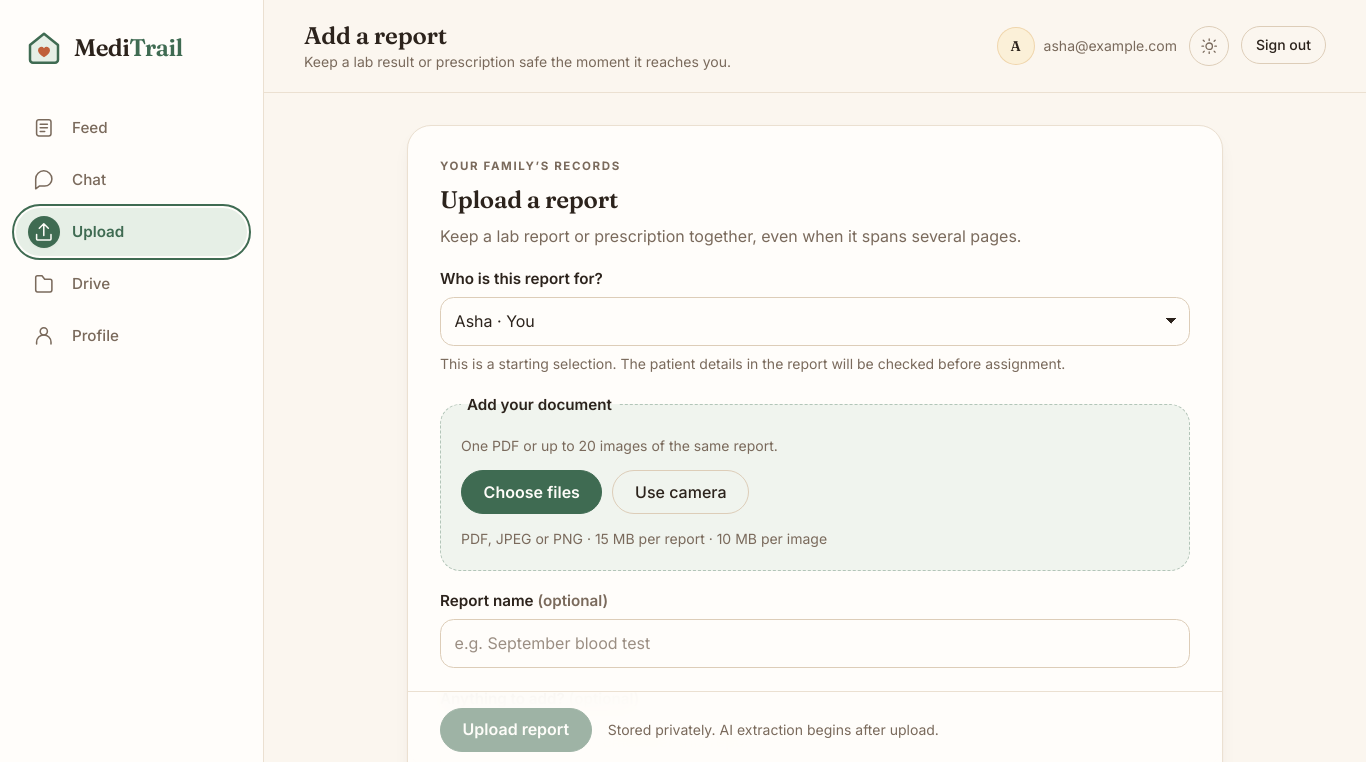
Test: OnboardingWizard › keeps recorded values when the health-context reload fails after saving
Click the tab "Profile" at (132, 336), box [16, 312, 247, 360]
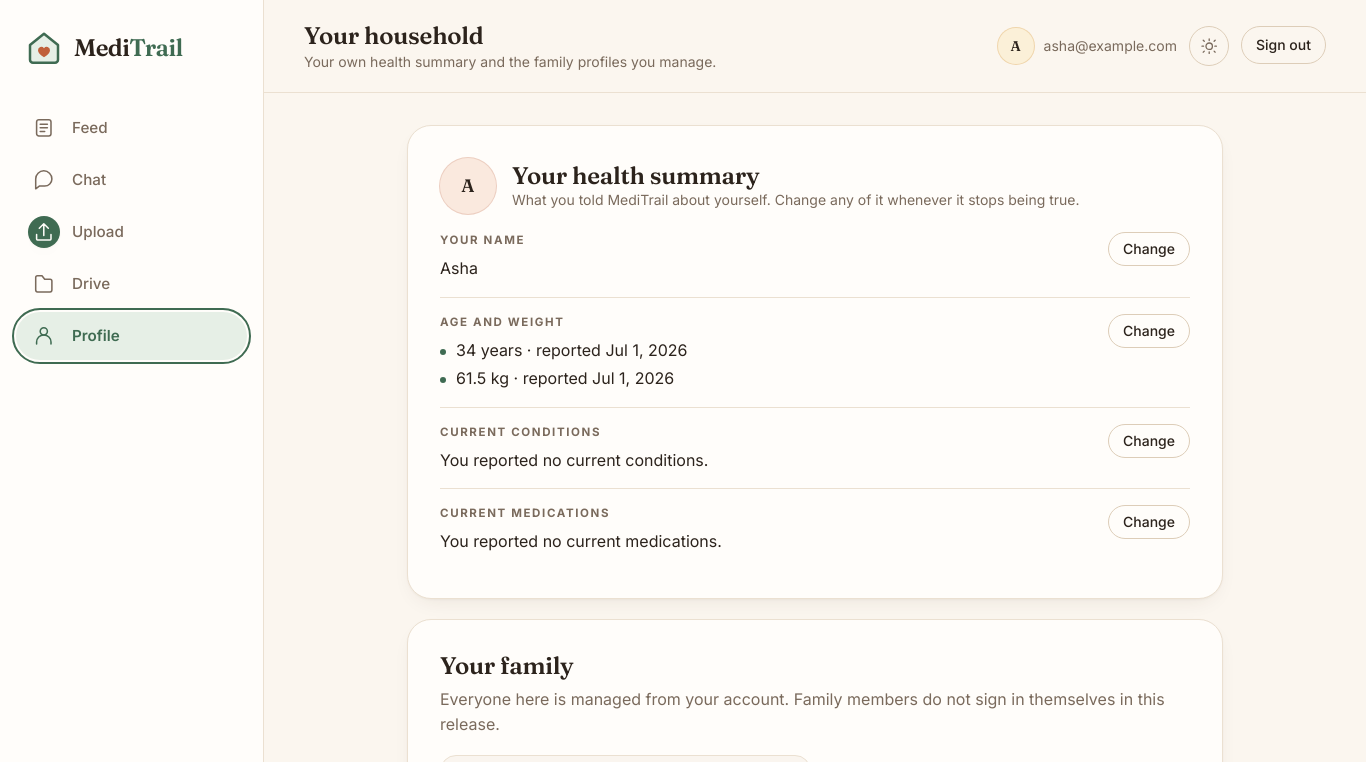
expect the heading "Your health summary" is shown: met, box [512, 161, 760, 190]
Click the button "Change" in the row of "Your name" at (1149, 249), box [1108, 232, 1190, 266]
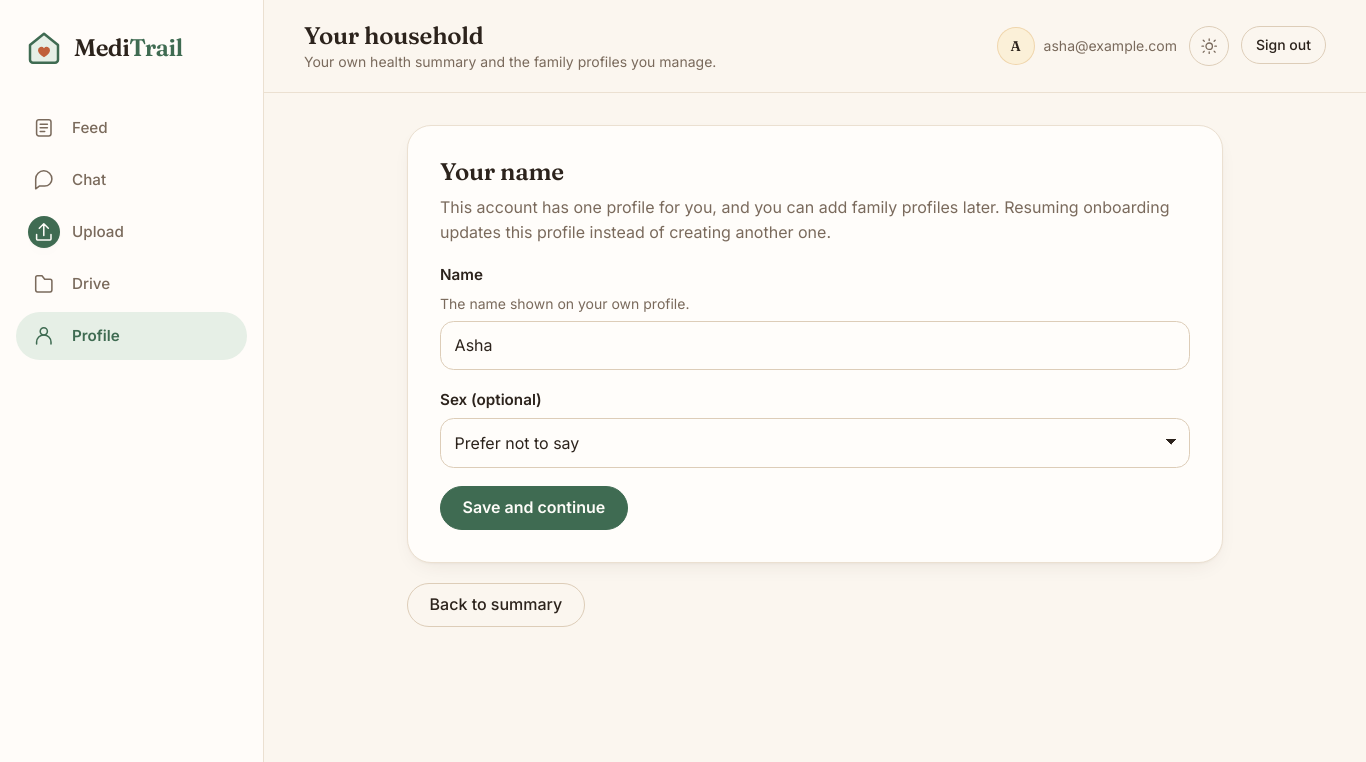
Click the button "Save and continue" at (534, 508), box [440, 486, 628, 530]
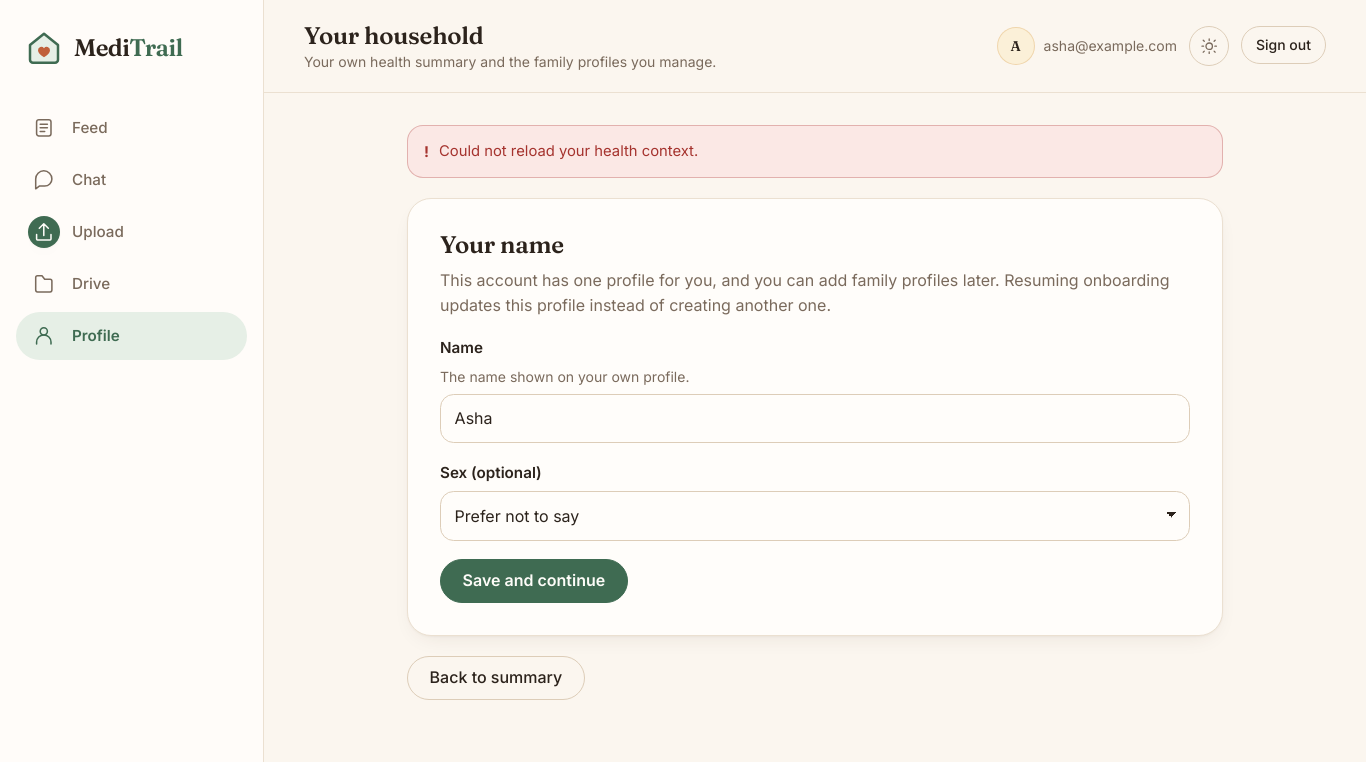
expect the message shows "Could not reload your health context.": met, box [439, 142, 698, 160]
Click the button "Back to summary" at (496, 678), box [407, 656, 585, 700]
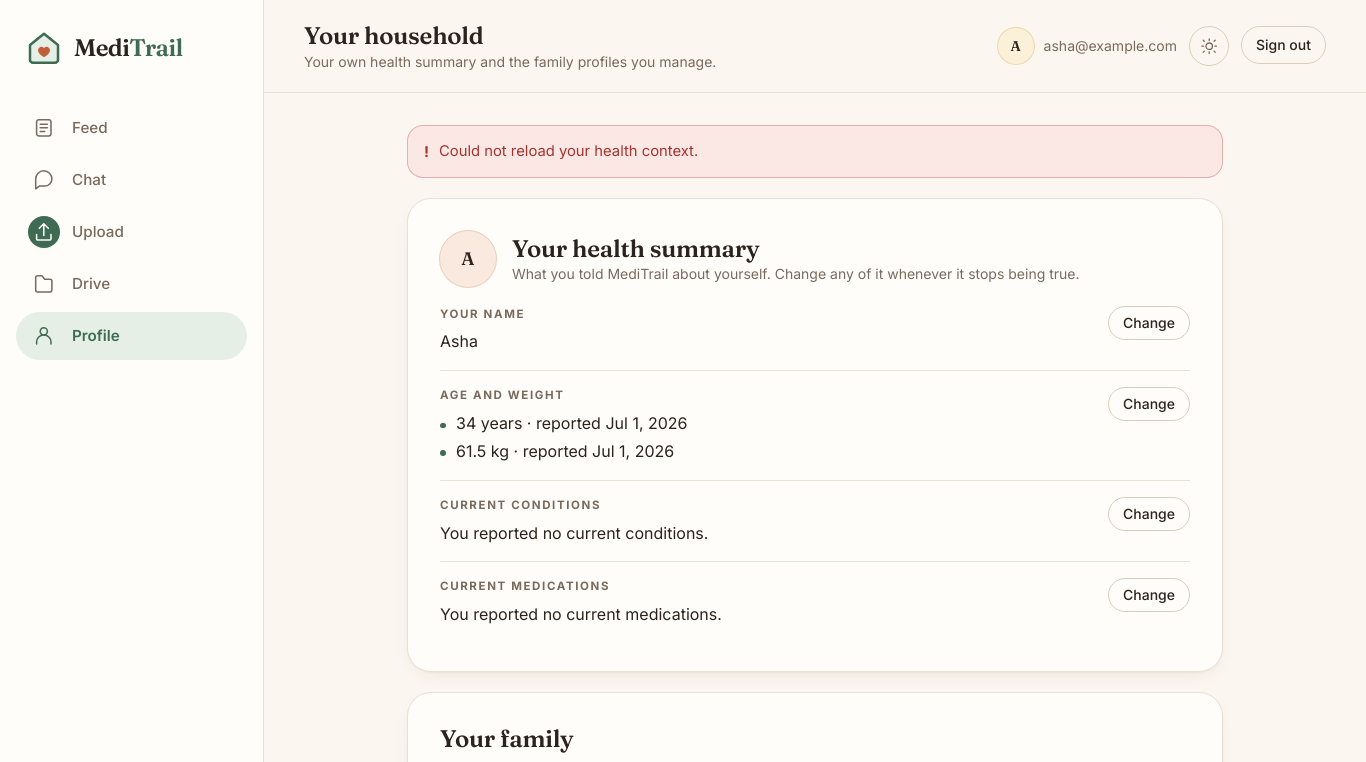
expect the list item "34 years · reported Jul 1, 2026" is shown: met, box [440, 411, 688, 436]
expect the list item "61.5 kg · reported Jul 1, 2026" is shown: met, box [440, 439, 688, 464]
